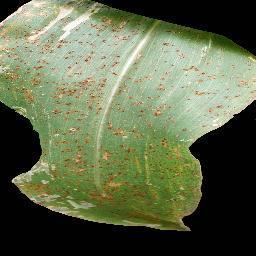Corn_Common_Rust: (8, 111, 231, 233), (0, 51, 229, 110), (1, 22, 212, 50), (0, 0, 164, 21), (229, 36, 256, 115)
